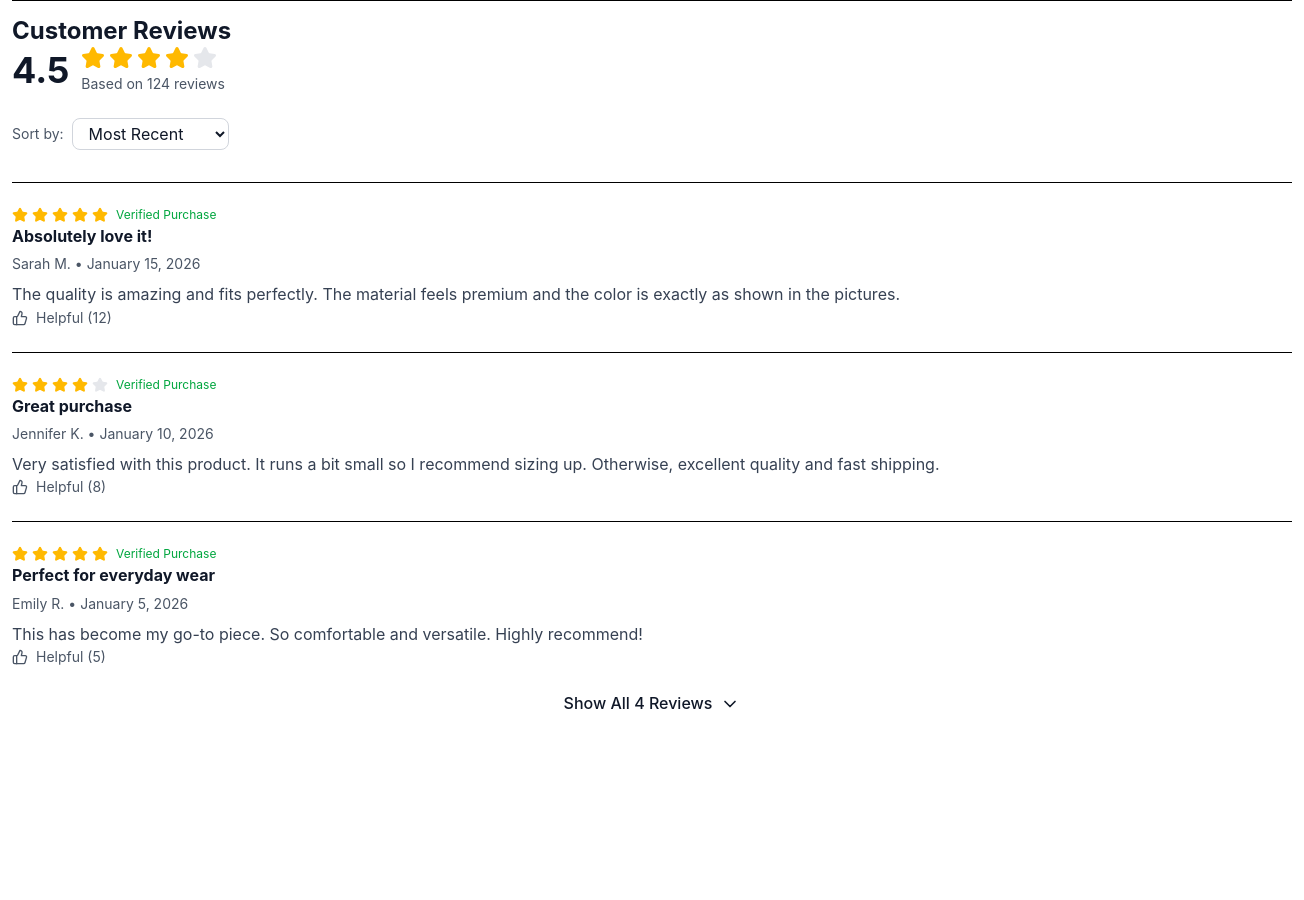
it: ProductReviews › expands to show all reviews when button is clicked
The width and height of the screenshot is (1304, 900).
Click the button "Show All 4 Reviews".
click(652, 704)  # box [12, 691, 1292, 717]
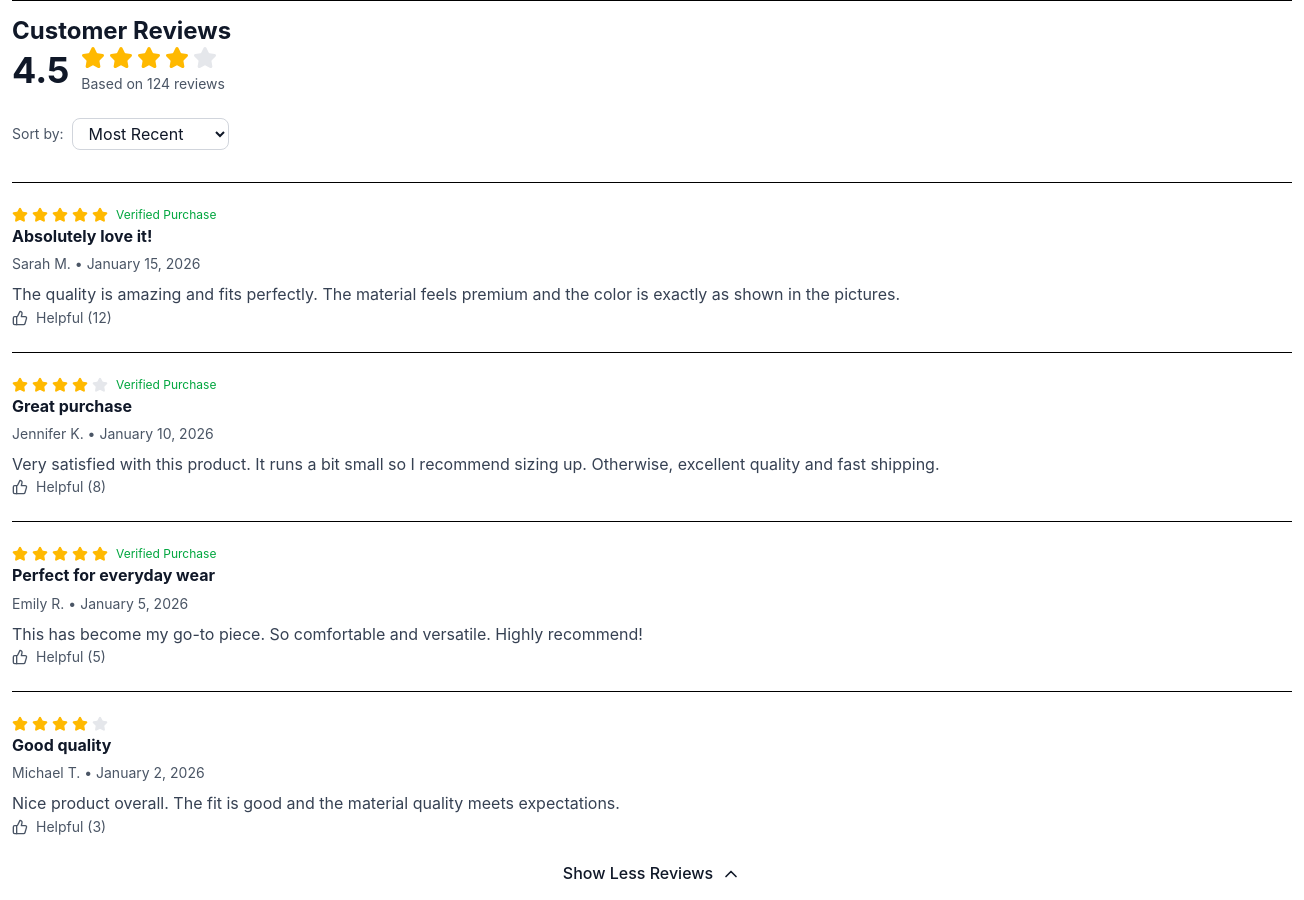
Expected: the button "Show Less Reviews" is shown, [12, 861, 1292, 886]
